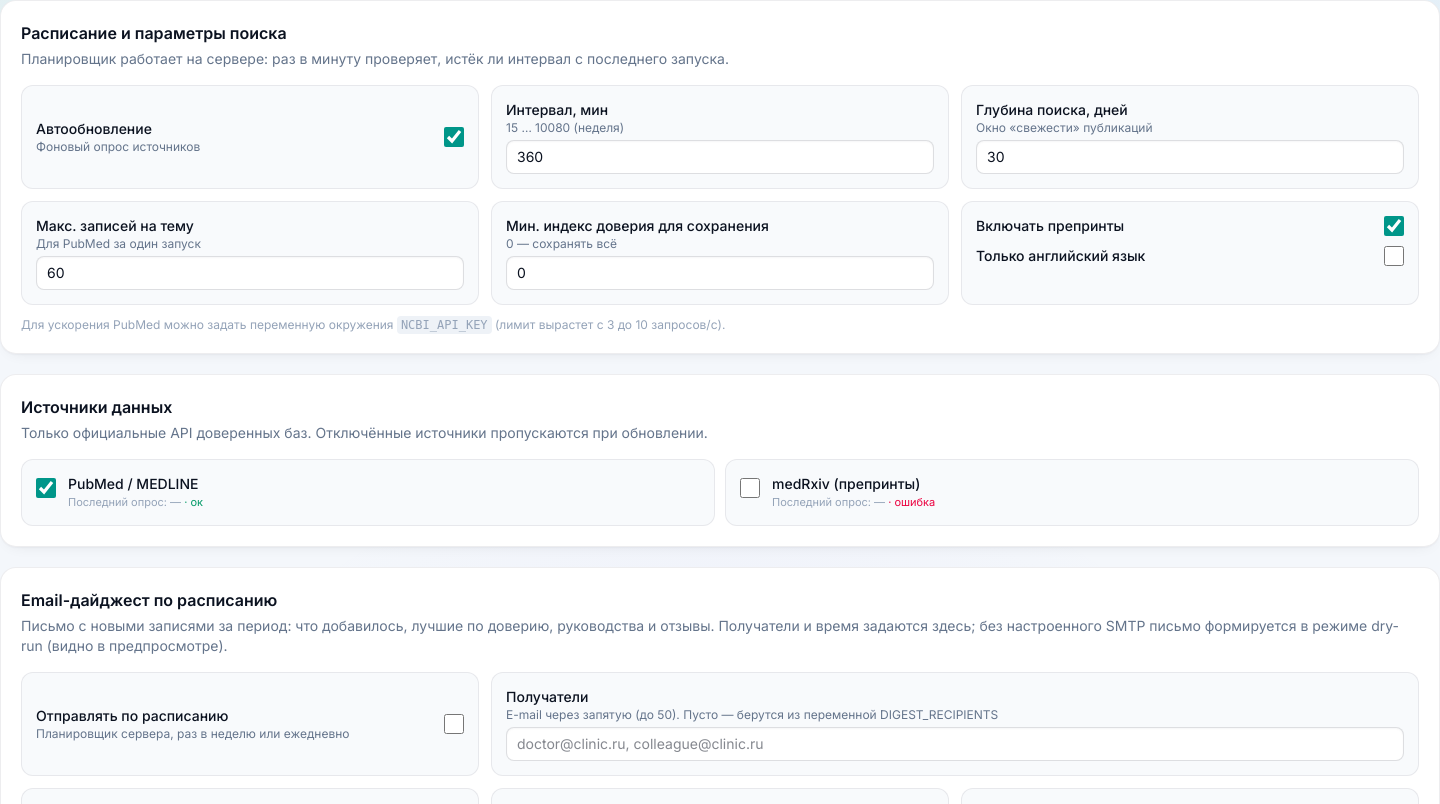
Test case: <SettingsPanel /> › числовые поля: без изменений — без запроса; пусто → прежнее значение; вне диапазона — зажимается и сохраняется
# Просто фокус и уход — ничего не отправляем
Click the number field labelled "Интервал, мин 15 … 10080 (неделя)" at (720, 157), box [506, 140, 934, 174]
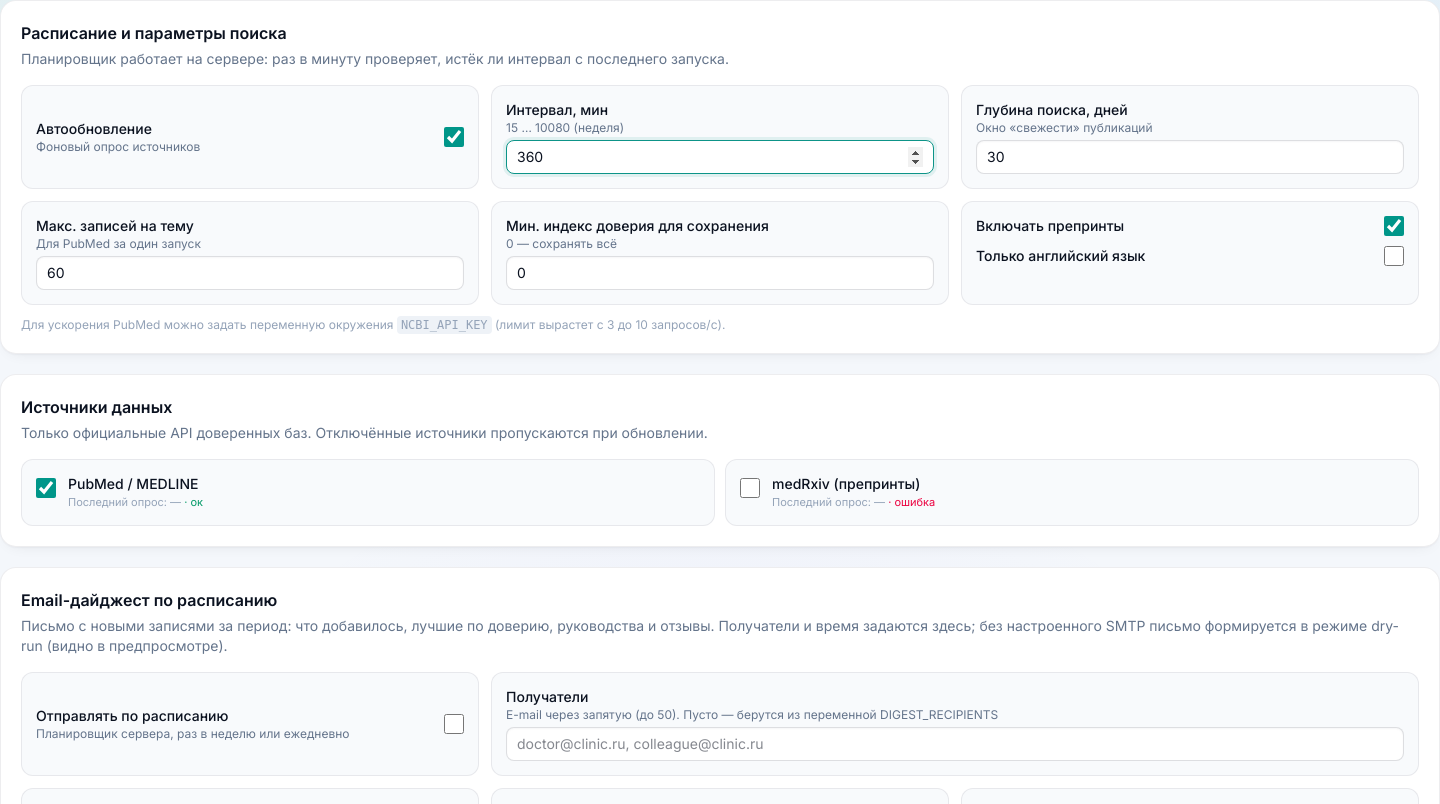
Press Tab
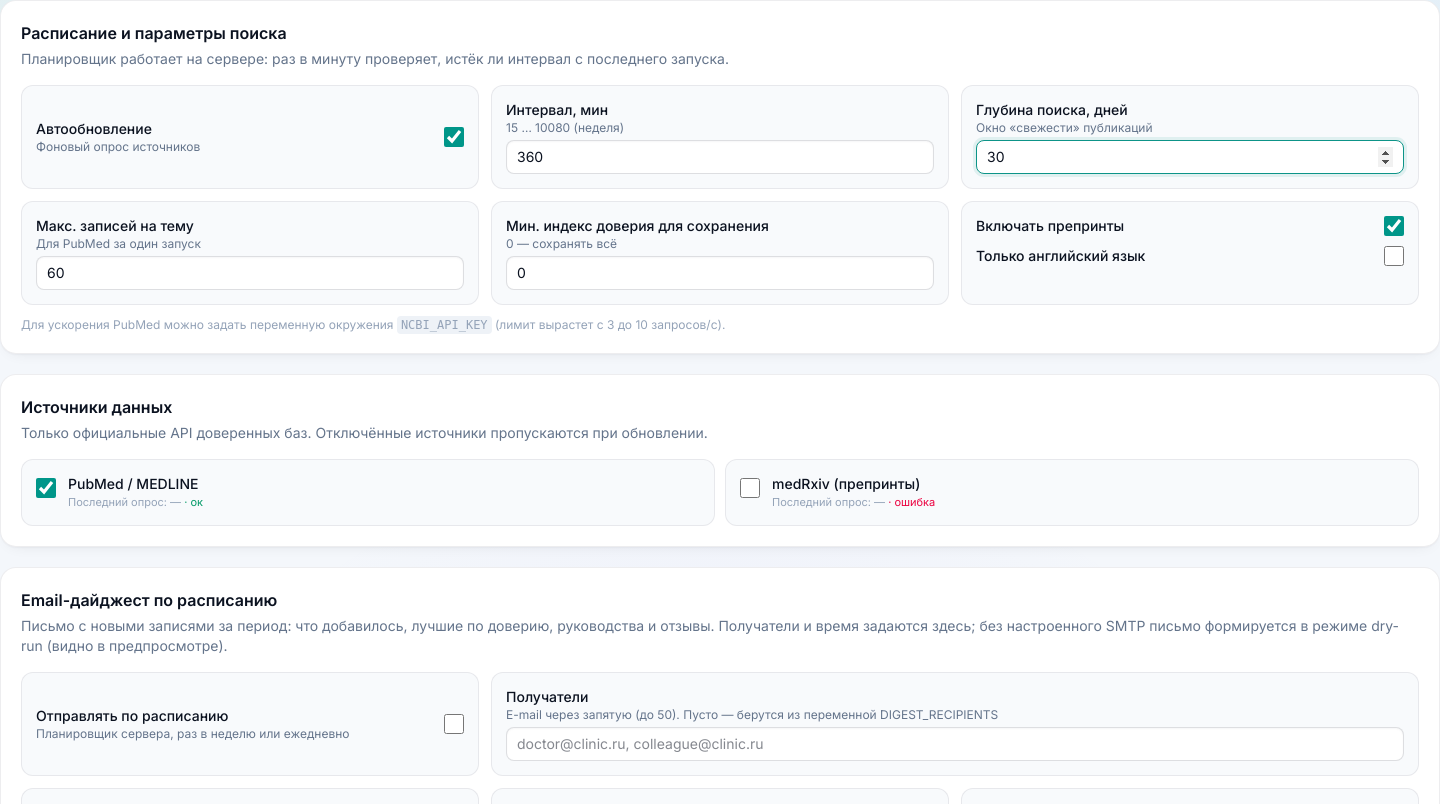
# Пустое поле — возвращаем прежнее значение, без запроса
Clear the number field labelled "Интервал, мин 15 … 10080 (неделя)" at (720, 157), box [506, 140, 934, 174]
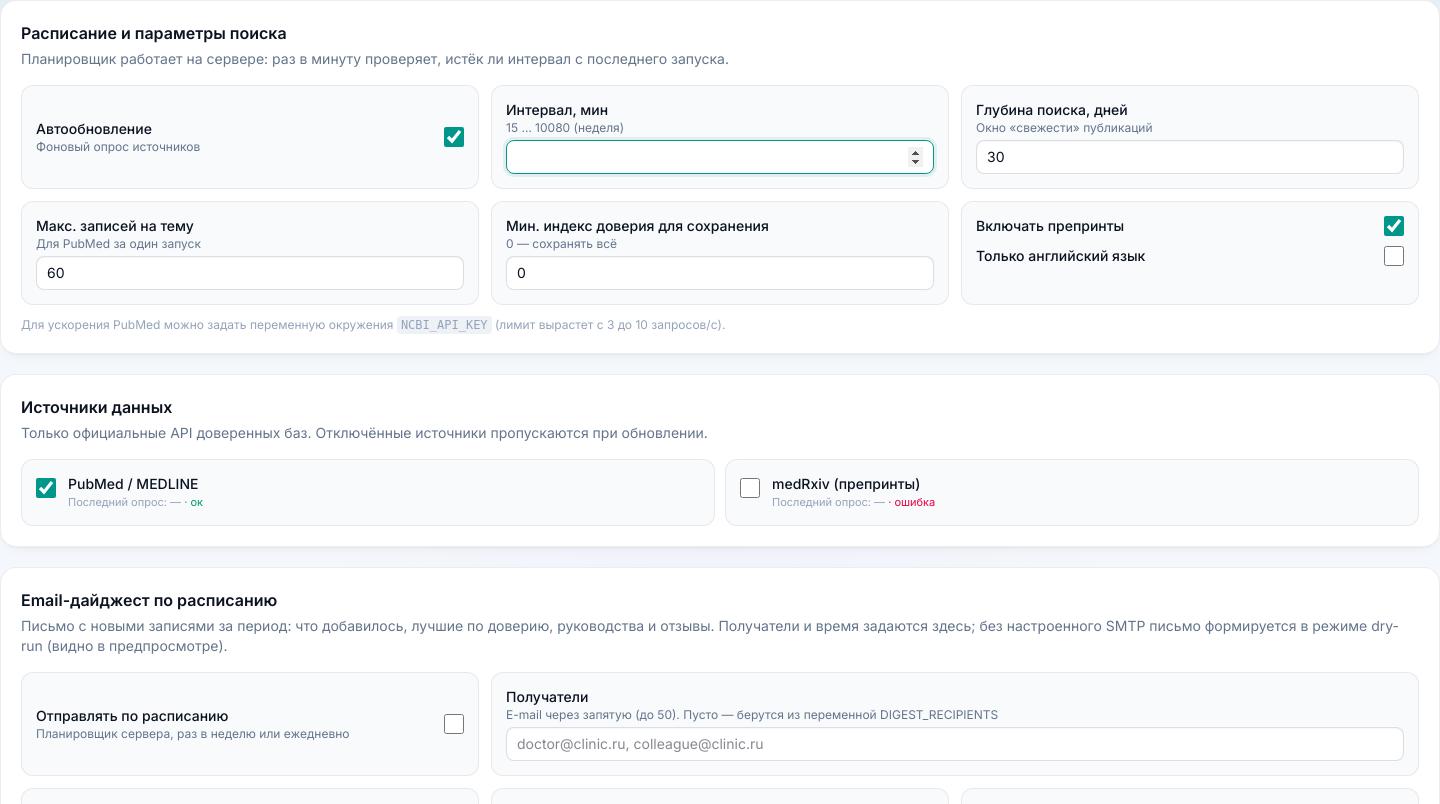
Press Tab
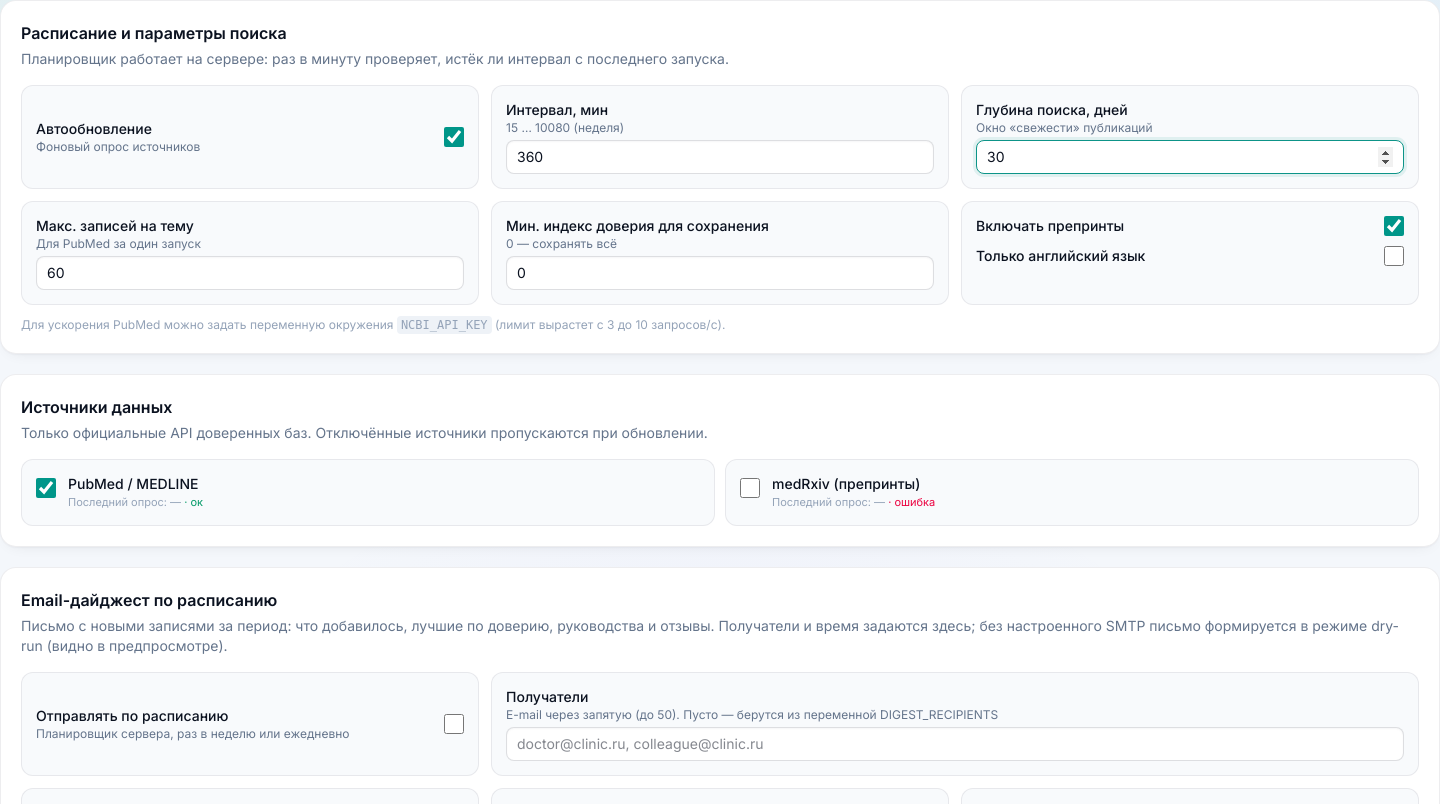
Result: the number field labelled "Интервал, мин 15 … 10080 (неделя)" holds "360"
# Меньше минимума — зажимаем до 15 и сохраняем один раз
Replace the text in the number field labelled "Интервал, мин 15 … 10080 (неделя)" with "3" at (720, 157), box [506, 140, 934, 174]
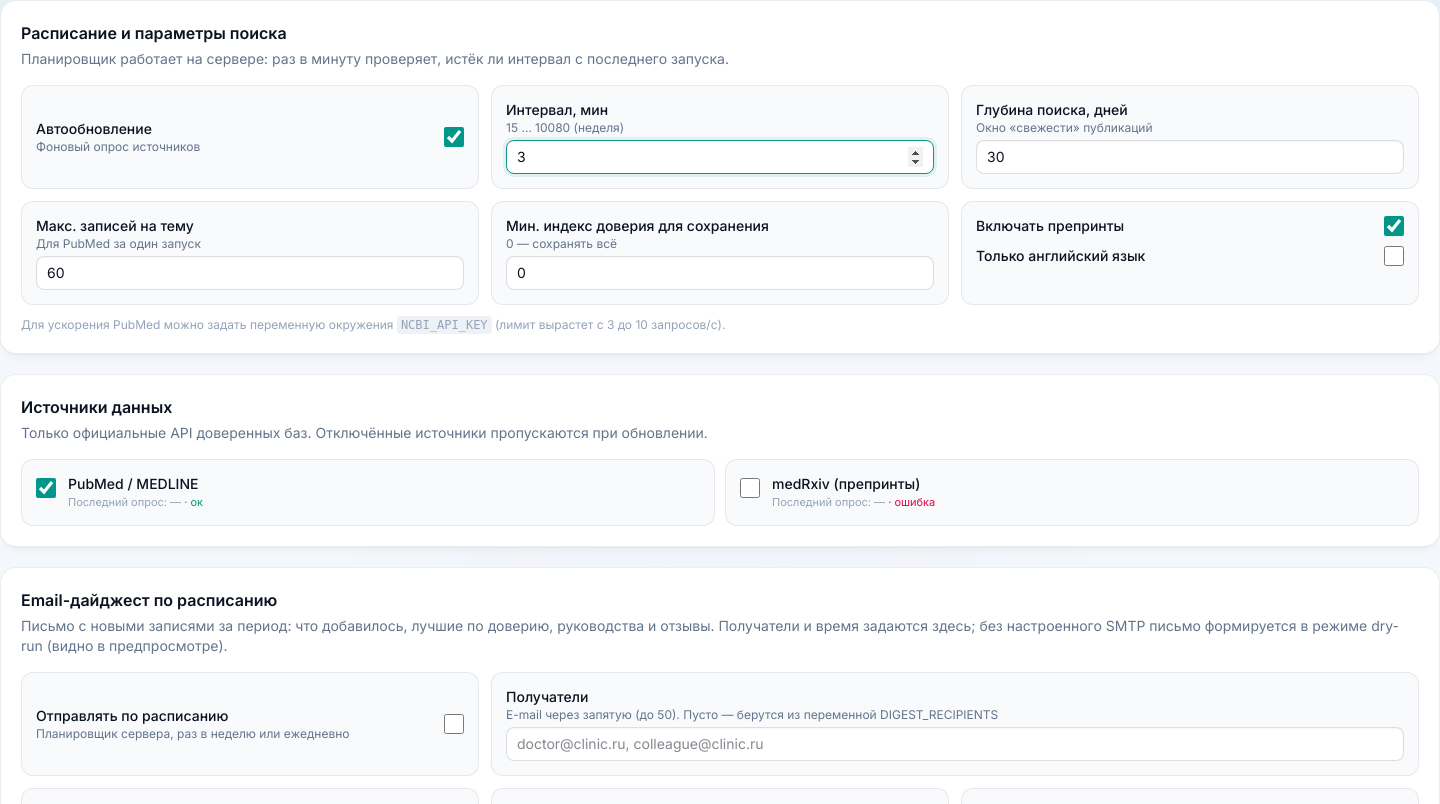
Press Tab
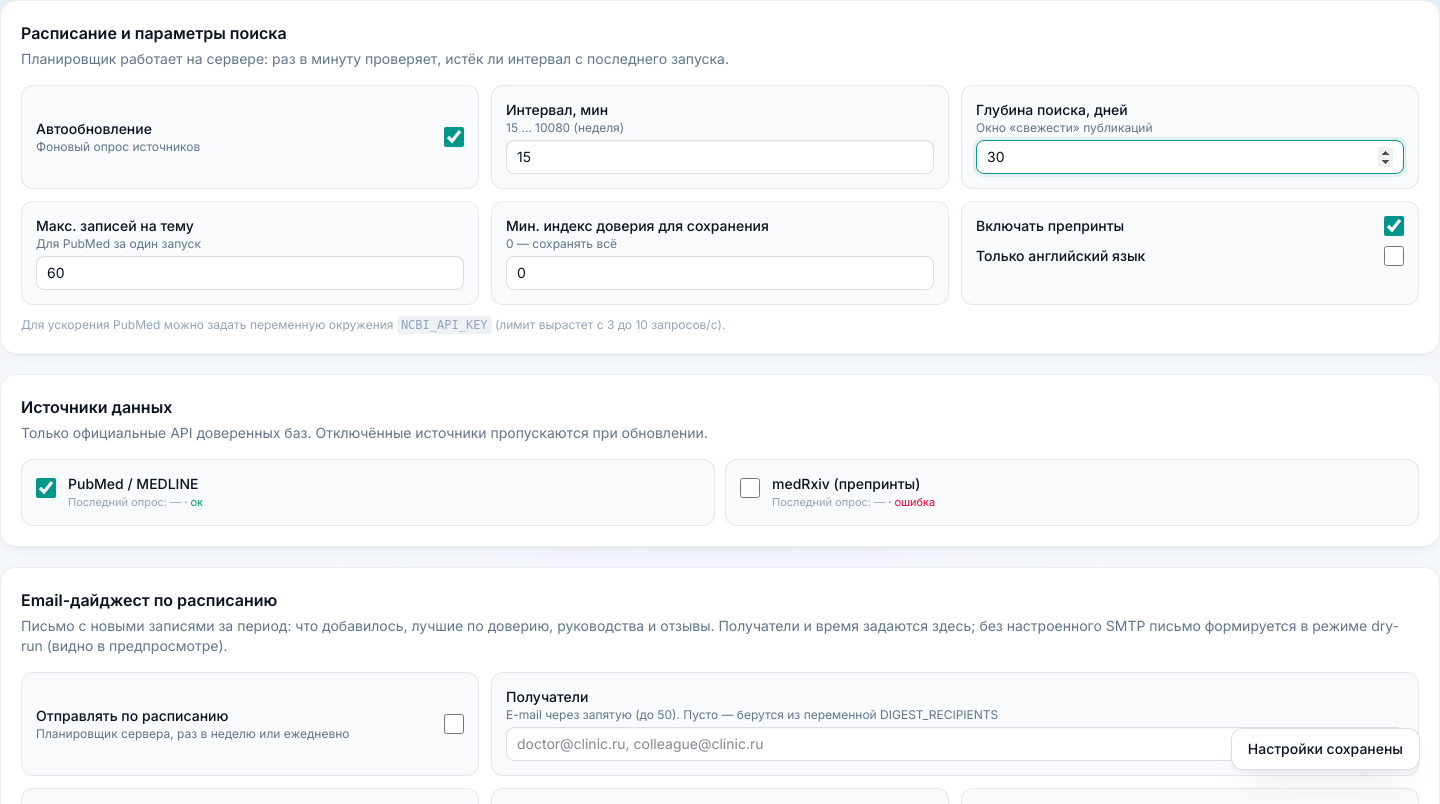
Result: the number field labelled "Интервал, мин 15 … 10080 (неделя)" holds "15" at [506, 140, 934, 174]
Result: the text "Настройки сохранены" is shown at [1231, 728, 1420, 770]
